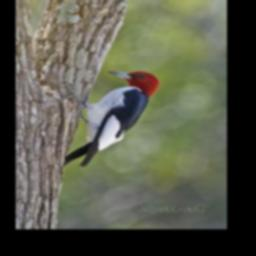Woodpecker: (58, 66, 164, 169)
